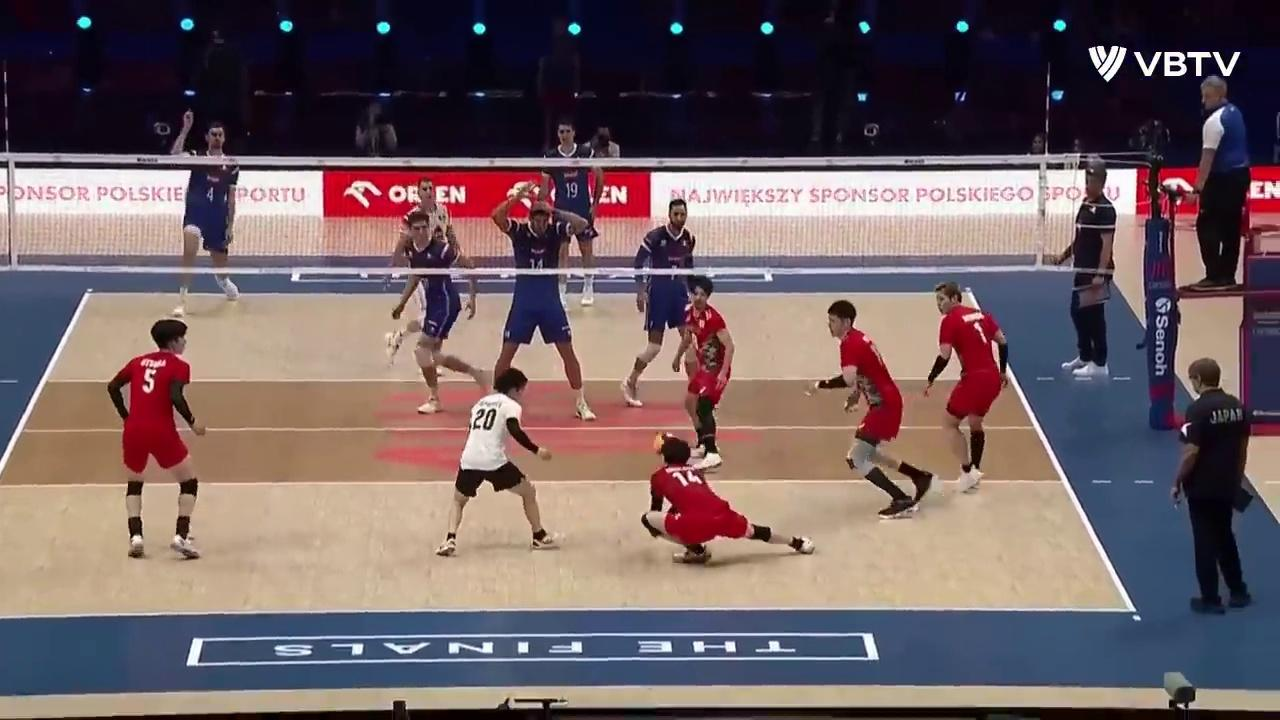ball: (652, 432, 665, 452)
